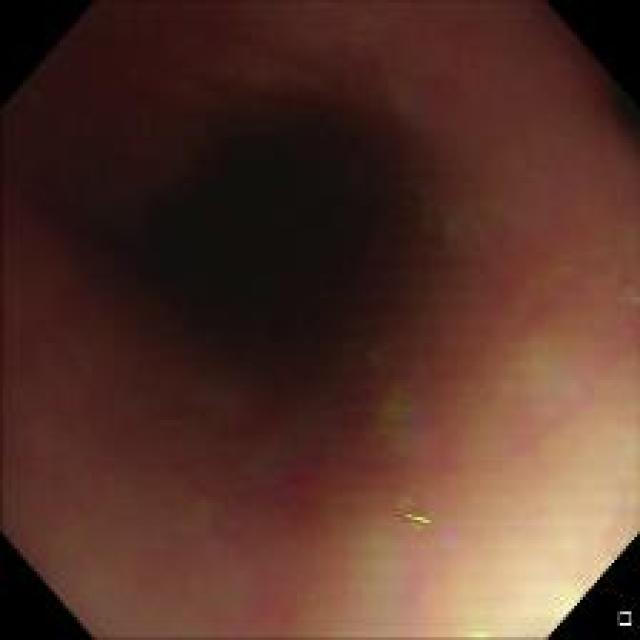color misalignment: (398, 505, 478, 559), (468, 622, 494, 638)
contrast: (68, 50, 511, 435)
